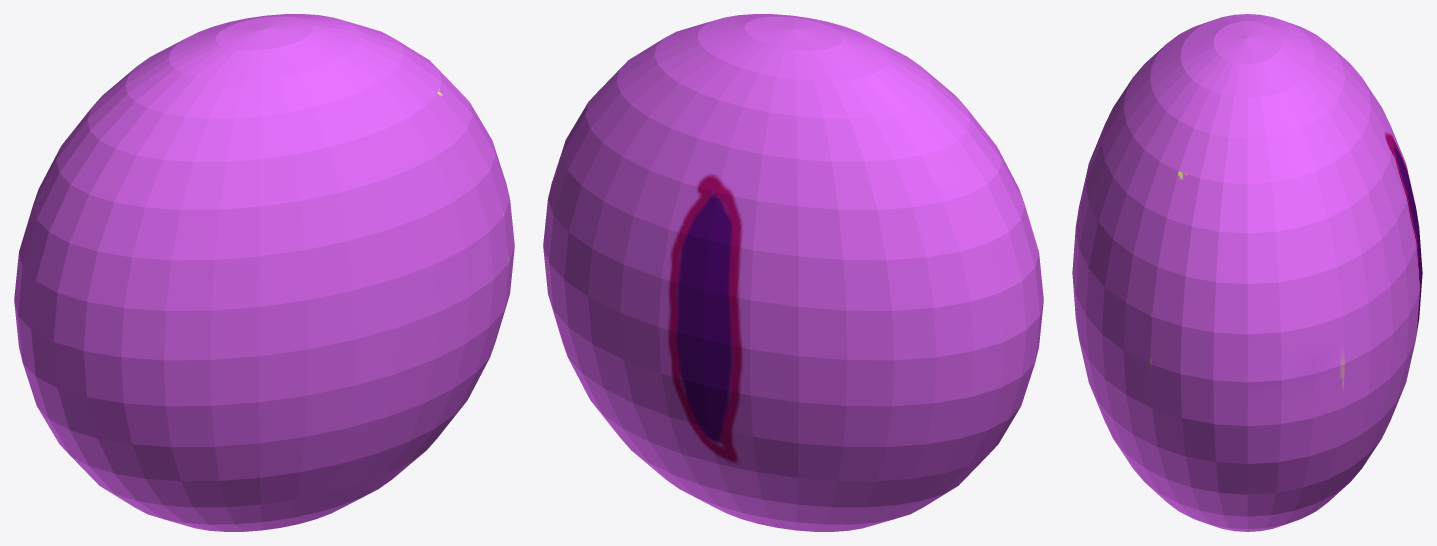
The model's file is CrackBoll.fbx.
3 views of the same model, side by side, from view 1: azimuth 30°, elevation 25°; view 2: azimuth 150°, elevation 25°; view 3: azimuth 270°, elevation 25° (orthographic). The views are drawn at different scales.
Visible parts, largest first — view 1: Cube.001; view 2: Cube.001; view 3: Cube.001.
Part boxes in pixels (<box>): Cube.001: <box>14,14,514,531</box>; Cube.001: <box>543,14,1043,531</box>; Cube.001: <box>1072,14,1422,531</box>.
Bounding box in the file's own units: 1056 × 1056 × 714.
